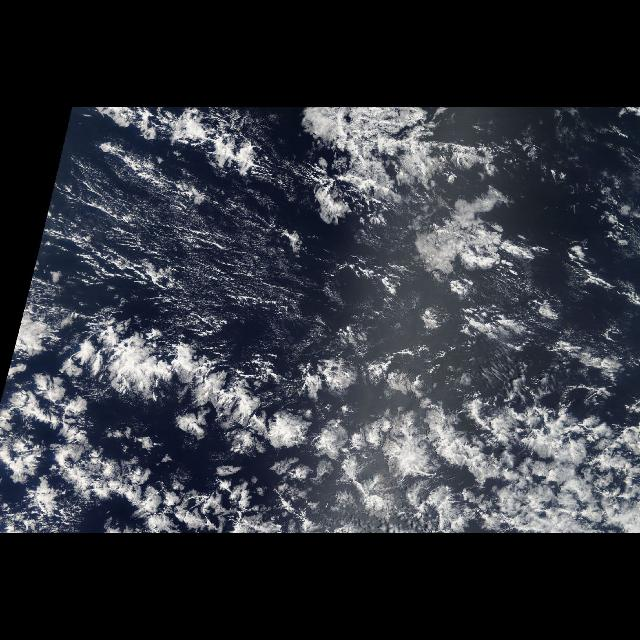Flower: (1, 309, 640, 533), (299, 112, 547, 288)
Gravel: (66, 159, 290, 315)
Sugar: (21, 138, 307, 328)
